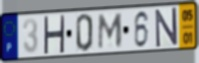0: (75, 12, 95, 54)
3: (21, 17, 40, 56)
6: (133, 10, 150, 49)
H: (42, 15, 66, 55)
M: (97, 13, 124, 51)
N: (154, 6, 179, 50)
